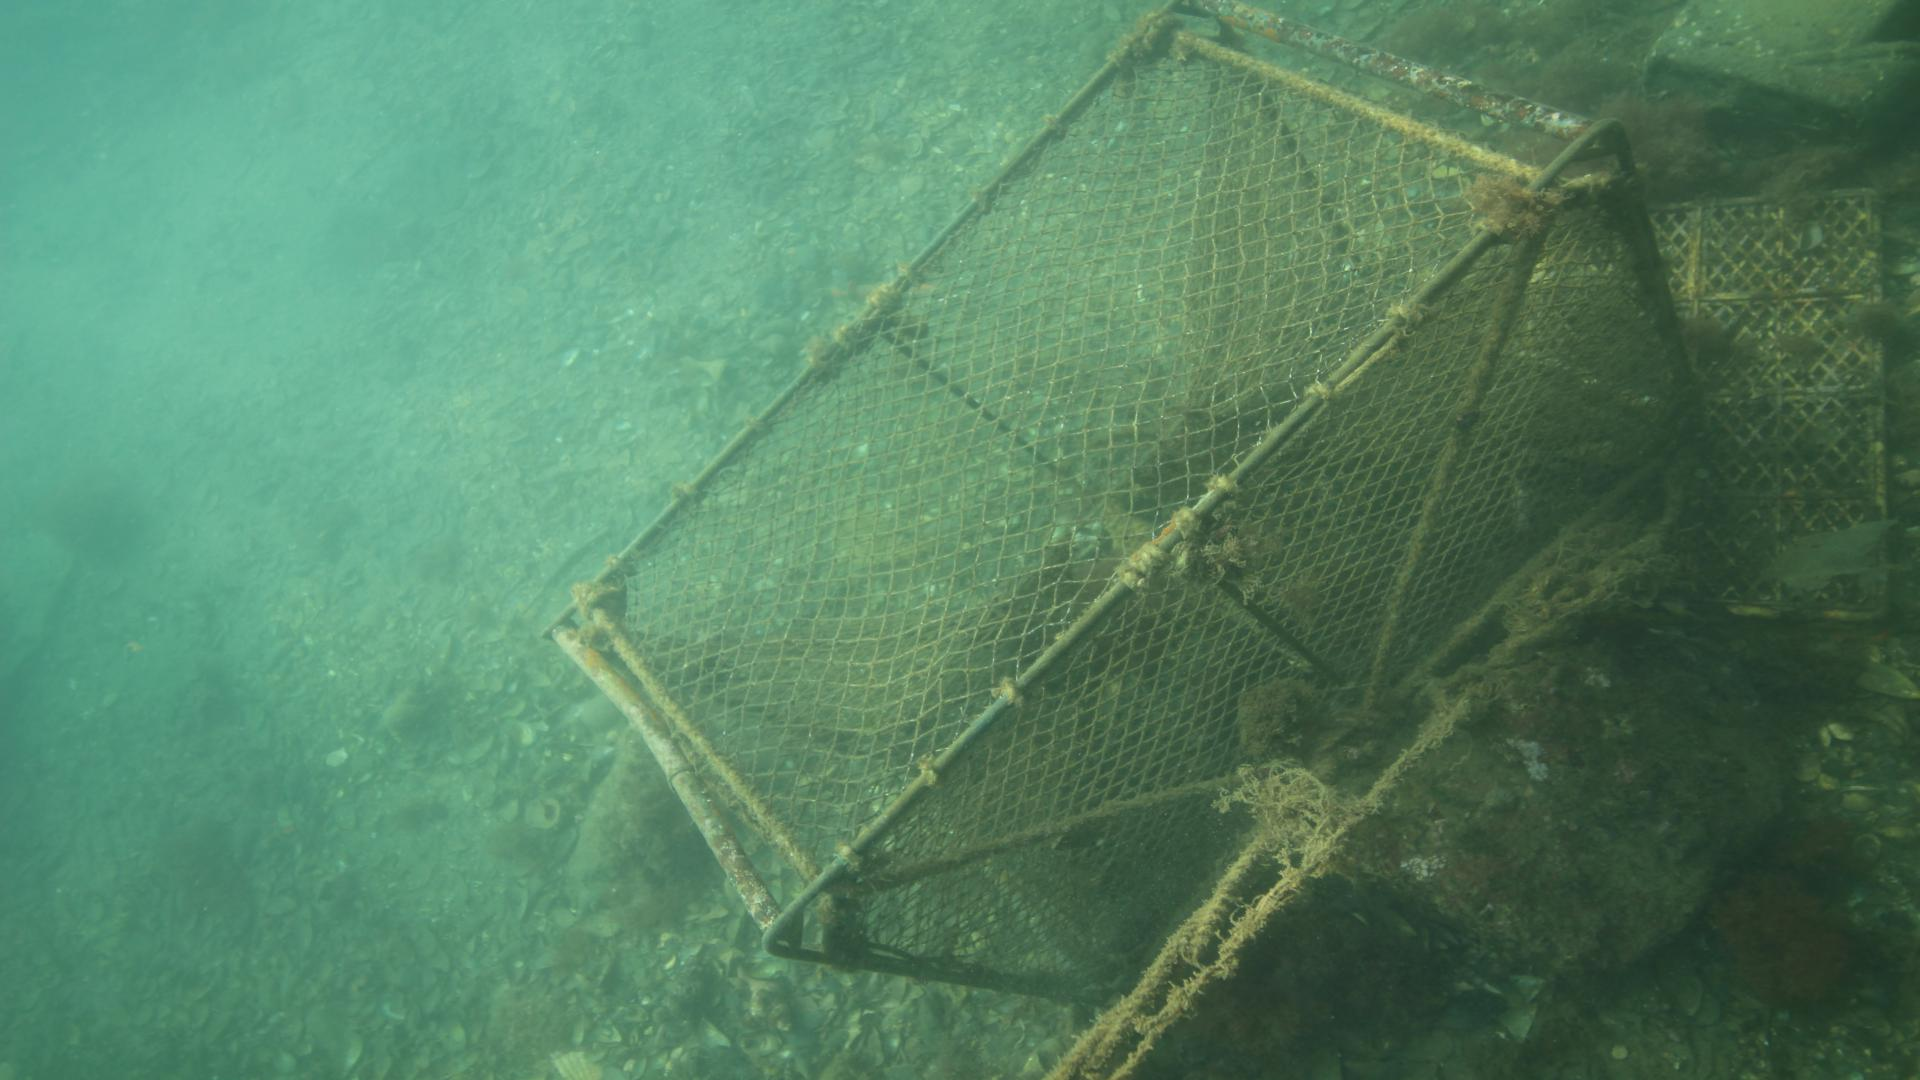bundle of ropes: (1038, 827, 1329, 1080)
rectangular fish trap: (539, 3, 1709, 1004)
